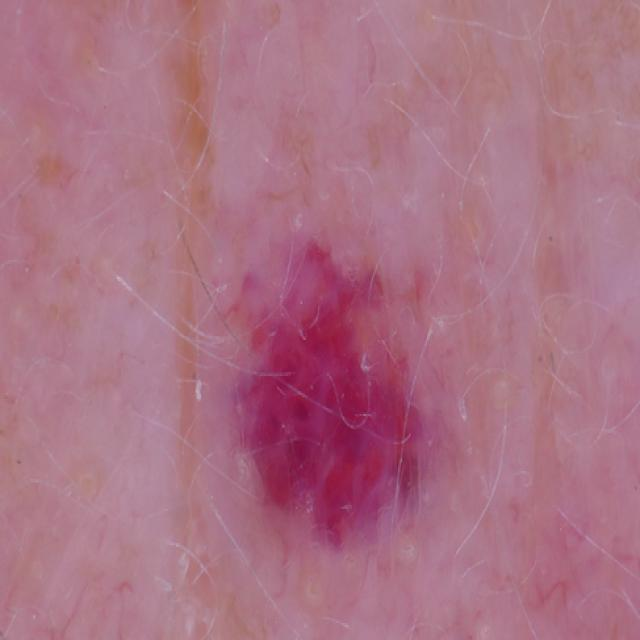Vascular Lesions: (192, 217, 499, 603)
